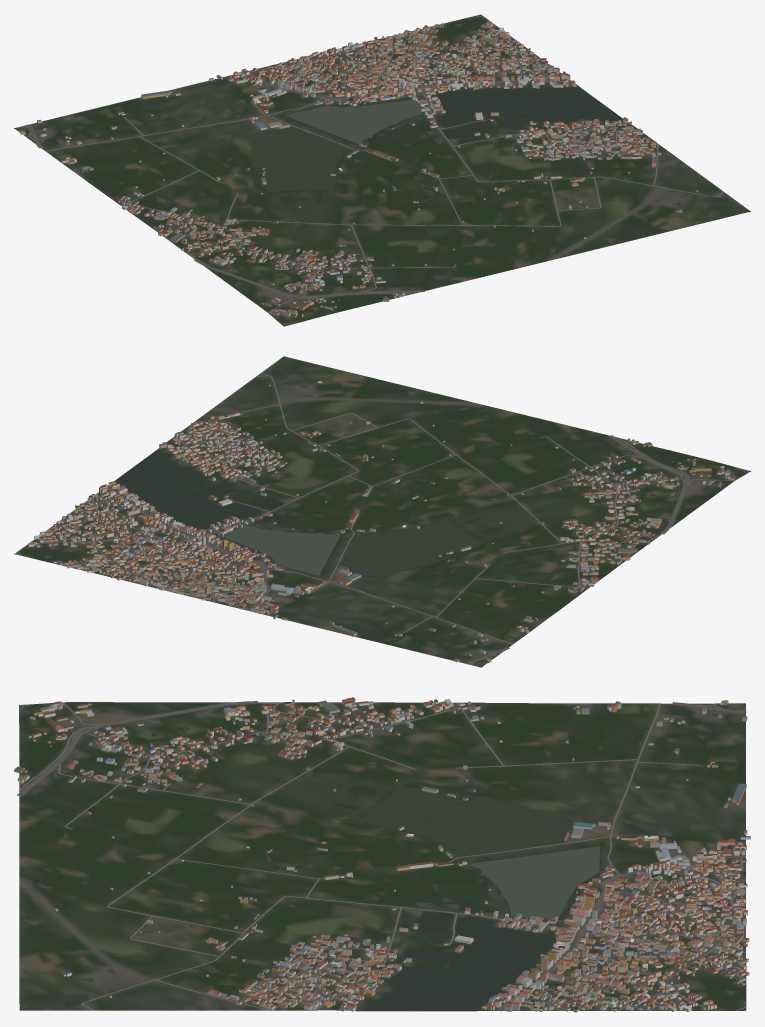
3 views of the same model, one above another, from view 1: azimuth 30°, elevation 25°; view 2: azimuth 150°, elevation 25°; view 3: azimuth 270°, elevation 25° (orthographic). The views are drawn at different scales.
Parts seen in each view (by area): view 1: ground, buildings, water, roads; view 2: ground, buildings, water, roads; view 3: ground, buildings, water, roads.
Part boxes in pixels (x1,y1,x2,y2): ground: (14, 14, 750, 326); buildings: (20, 21, 697, 317); water: (250, 88, 623, 278); roads: (24, 14, 723, 312); ground: (14, 356, 750, 667); buildings: (28, 379, 734, 662); water: (116, 449, 655, 576); roads: (14, 375, 734, 664); ground: (19, 702, 746, 1011); buildings: (14, 697, 750, 1012); water: (152, 725, 600, 1010); roads: (17, 701, 746, 1011).
Size of the model in its own units: 1415 by 30.89 by 1422.
